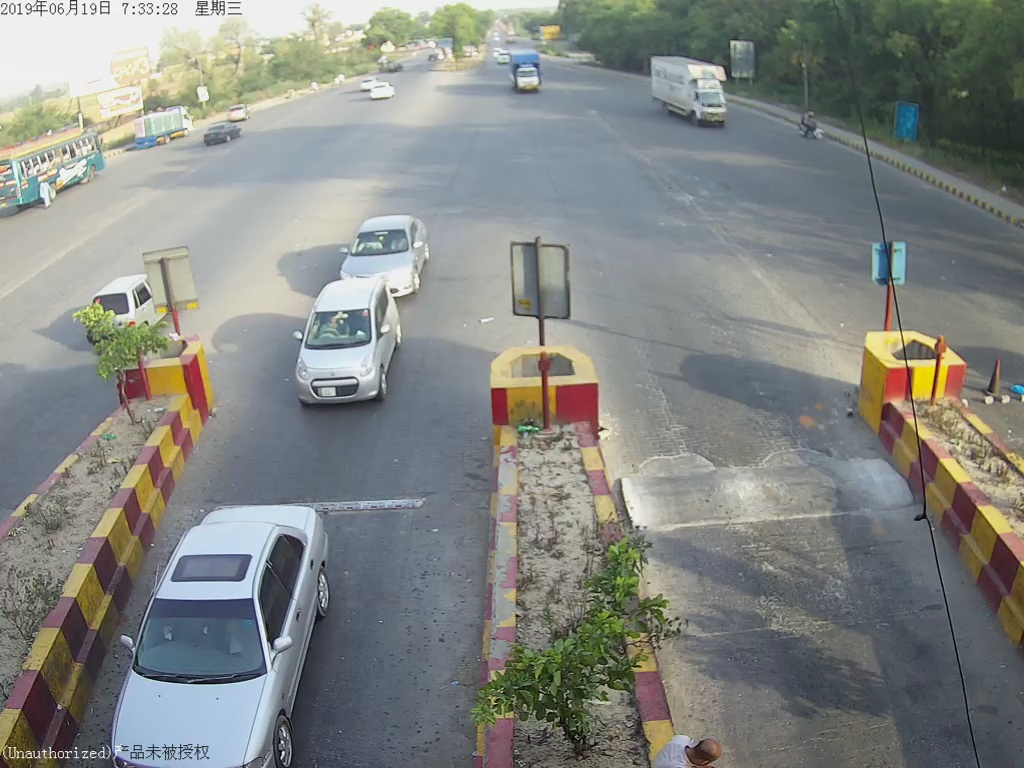Cat-1: (98, 559, 317, 751), (282, 279, 410, 405), (343, 208, 444, 278)
